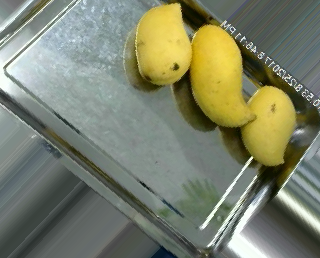Mango: (190, 25, 257, 128), (134, 3, 191, 85), (242, 86, 296, 166)
